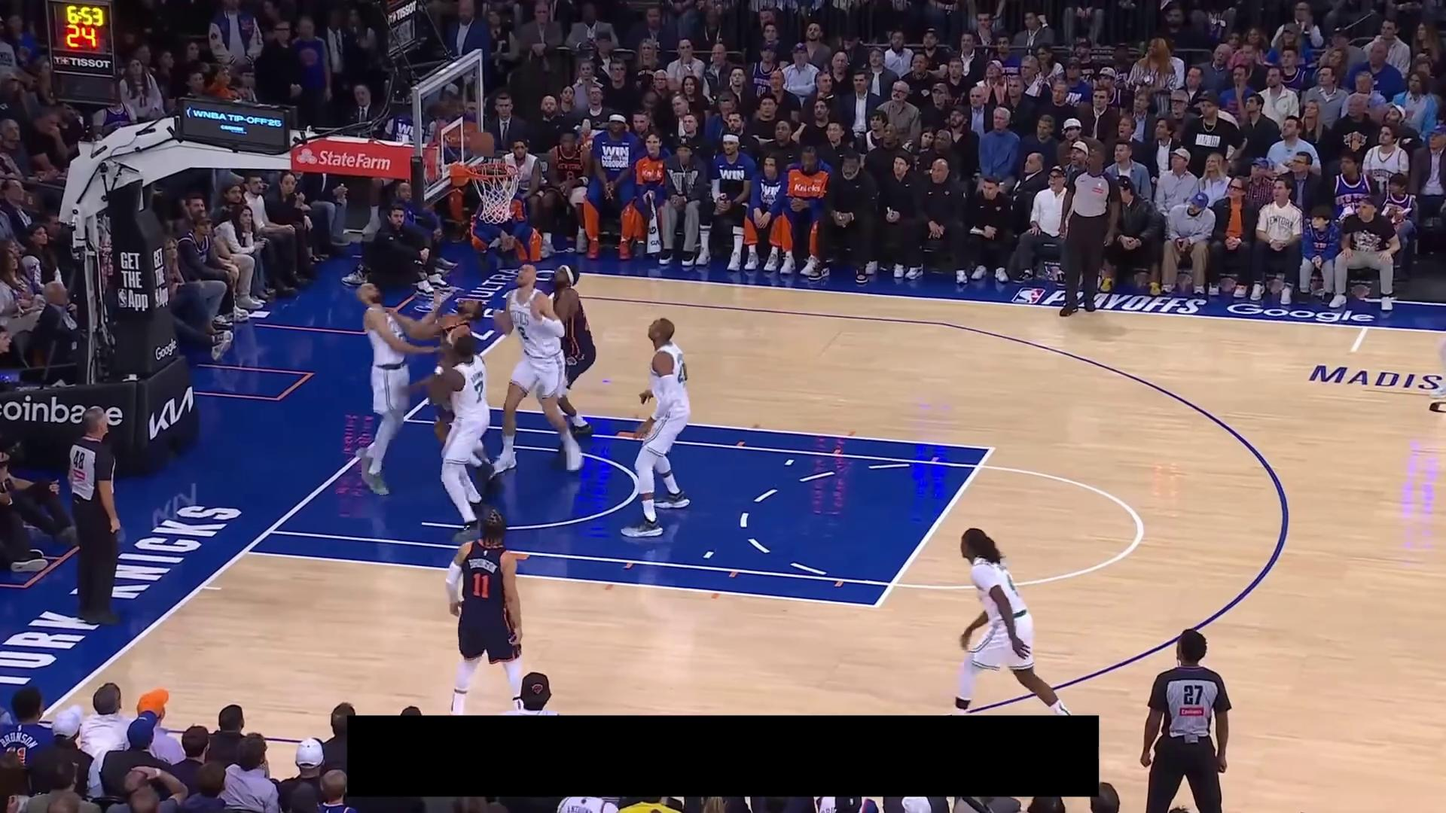ball: (468, 130, 494, 156)
number: (471, 571, 490, 600), (473, 380, 484, 402), (516, 325, 529, 340)
player: (945, 524, 1076, 715), (392, 298, 499, 492), (492, 263, 584, 472), (356, 282, 444, 495), (443, 506, 530, 716), (618, 315, 694, 540), (430, 334, 491, 547), (542, 263, 598, 443), (1428, 243, 1446, 406)
referee: (1140, 628, 1232, 813), (66, 406, 126, 625), (1057, 143, 1121, 317)
rim: (465, 161, 520, 180)
